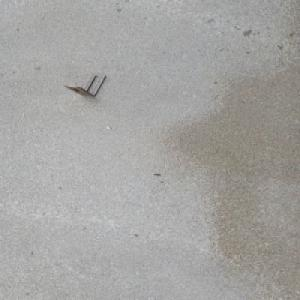MetalPart: (62, 72, 107, 97)
